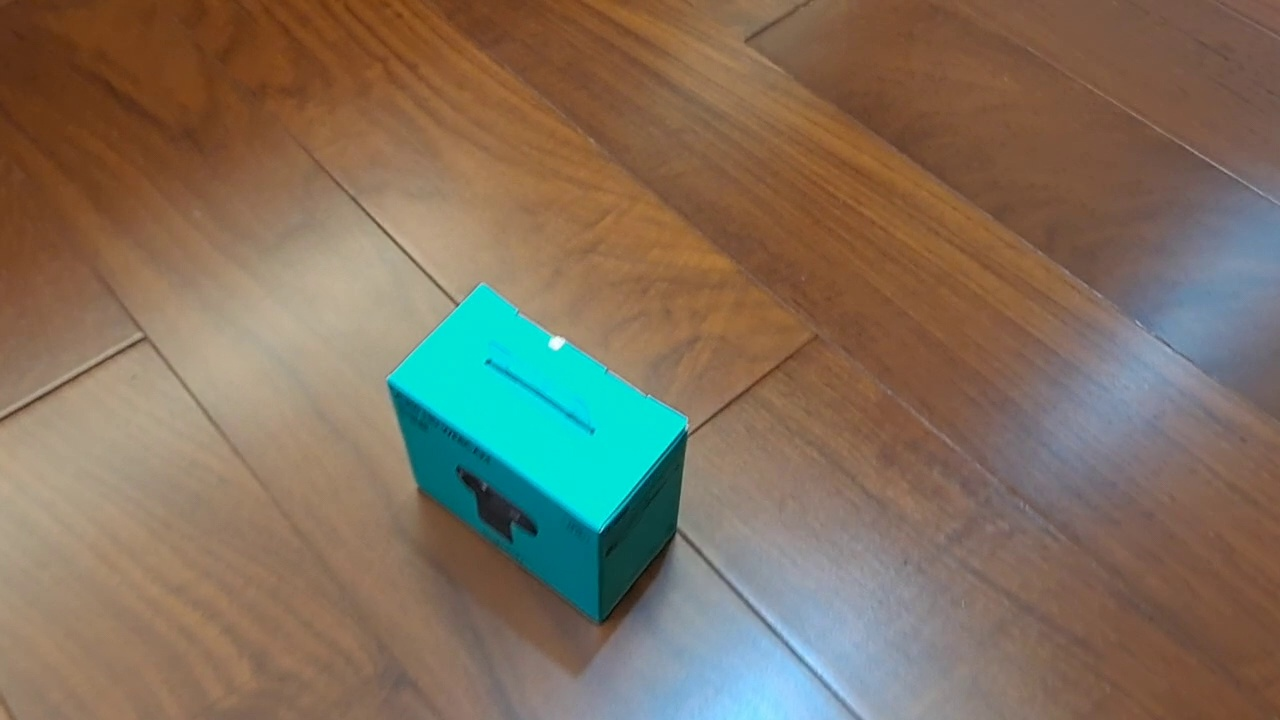webcam: (384, 282, 691, 626)
